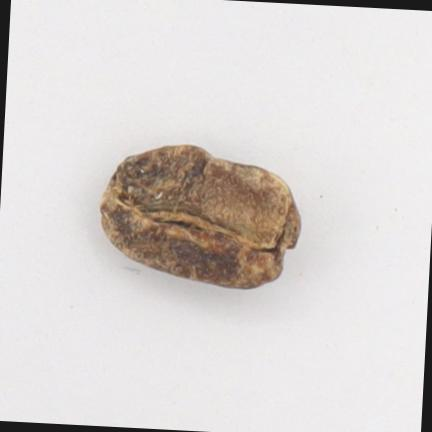partial-black: (101, 145, 300, 288)
